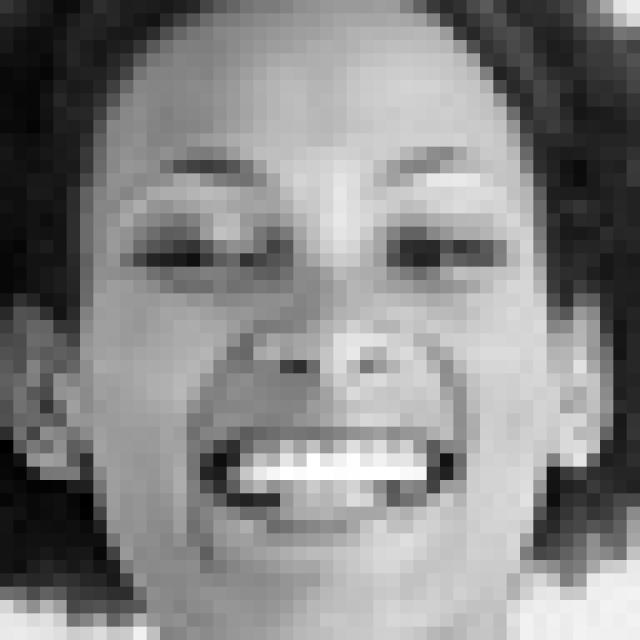happy: (99, 136, 536, 582)
